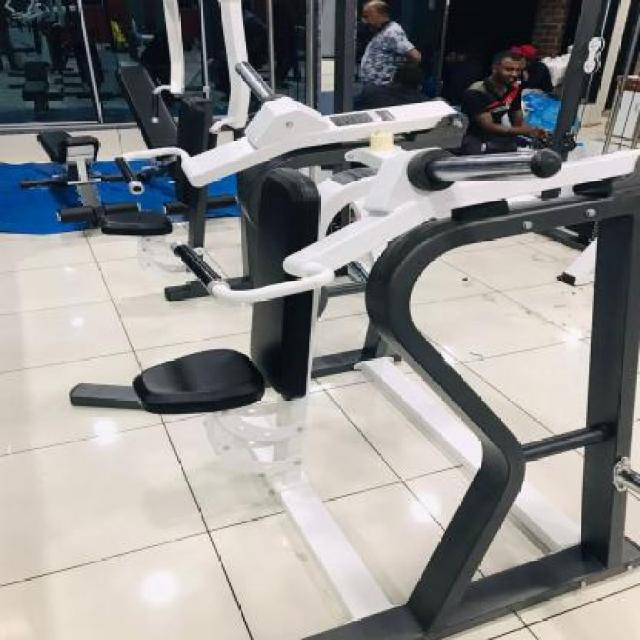shoulder press machine: (117, 60, 380, 492)
